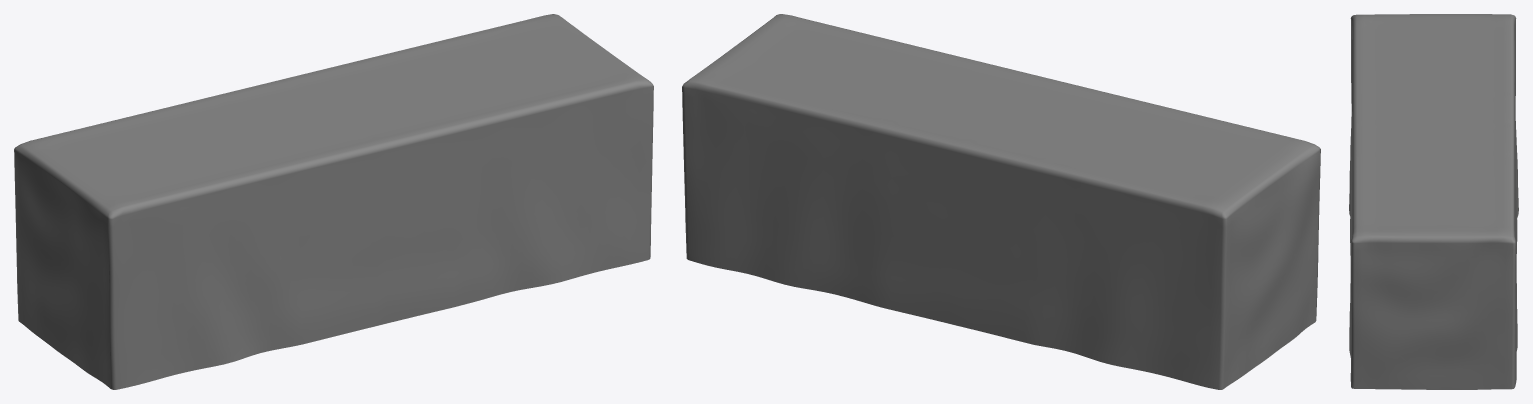
Rendered from fitted-8ft-4.glb.
The picture shows the model from 3 angles, left to right: view 1: azimuth 30°, elevation 25°; view 2: azimuth 150°, elevation 25°; view 3: azimuth 270°, elevation 25°; orthographic projection. The views are drawn at different scales.
Visible parts, largest first — view 1: geometry_0; view 2: geometry_0; view 3: geometry_0.
Boxes of the visible parts, box(x1,y1,x2,y2) form: geometry_0: box(14, 14, 653, 389); geometry_0: box(682, 14, 1320, 389); geometry_0: box(1349, 14, 1518, 389).
Size of the model in its own units: 2.45 by 0.7685 by 0.7713.
1 material, 1 textured.
